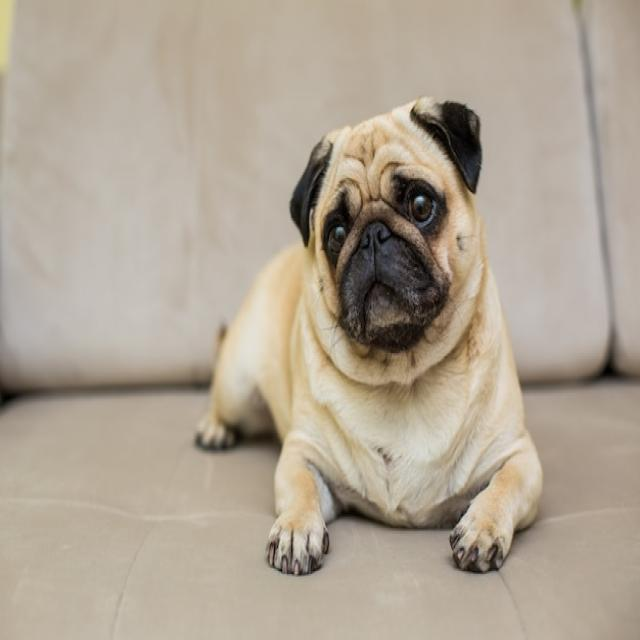Dog: (197, 96, 544, 577)
